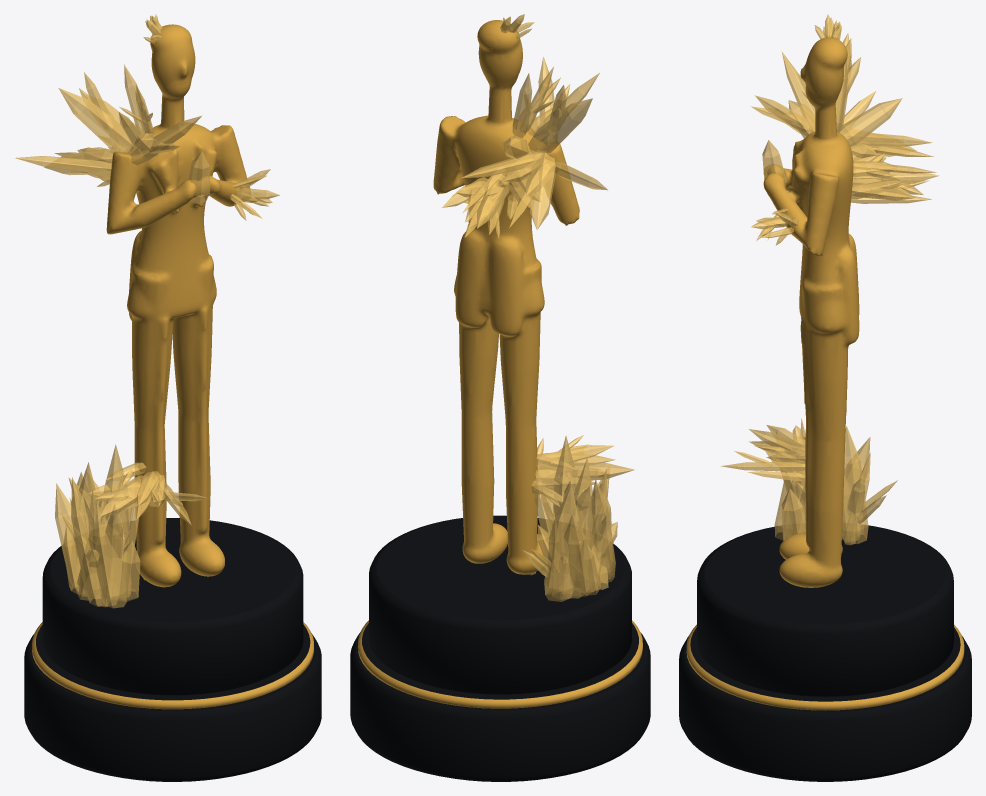
File: avatar_gentleman_pose.glb
3 views of the same model, side by side, from view 1: azimuth 30°, elevation 25°; view 2: azimuth 150°, elevation 25°; view 3: azimuth 270°, elevation 25° (orthographic). The views are drawn at different scales.
Parts seen in each view (by area): view 1: Pedestal, Gentleman sculpt, Six dense crystal colonies, Held heart crystal; view 2: Pedestal, Gentleman sculpt, Six dense crystal colonies; view 3: Pedestal, Gentleman sculpt, Six dense crystal colonies, Held heart crystal.
Boxes of the visible parts, x1=… form: Pedestal: x1=24, y1=518, x2=321, y2=781; Gentleman sculpt: x1=106, y1=24, x2=250, y2=587; Six dense crystal colonies: x1=15, y1=14, x2=279, y2=608; Held heart crystal: x1=188, y1=151, x2=209, y2=204; Pedestal: x1=350, y1=515, x2=650, y2=781; Gentleman sculpt: x1=433, y1=20, x2=579, y2=574; Six dense crystal colonies: x1=442, y1=14, x2=634, y2=601; Pedestal: x1=679, y1=525, x2=971, y2=781; Gentleman sculpt: x1=763, y1=37, x2=859, y2=587; Six dense crystal colonies: x1=720, y1=14, x2=939, y2=545; Held heart crystal: x1=762, y1=140, x2=786, y2=188.
Bounding box in the file's own units: 0.3866 × 1 × 0.3805.
